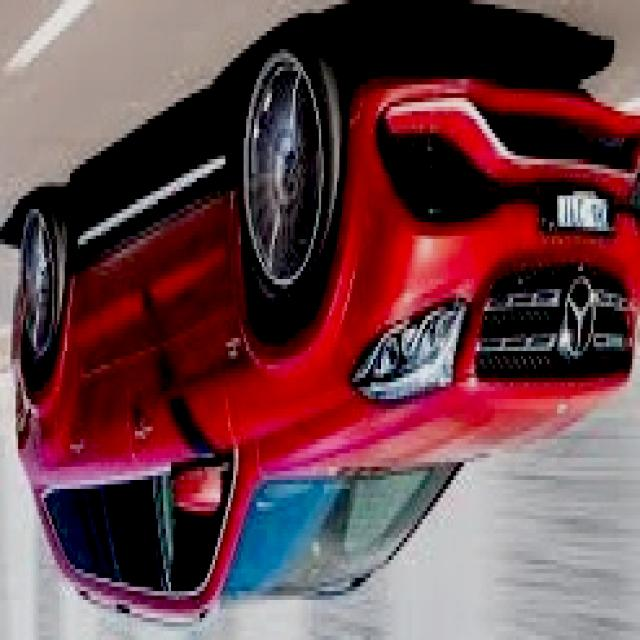red: (15, 57, 640, 626)
